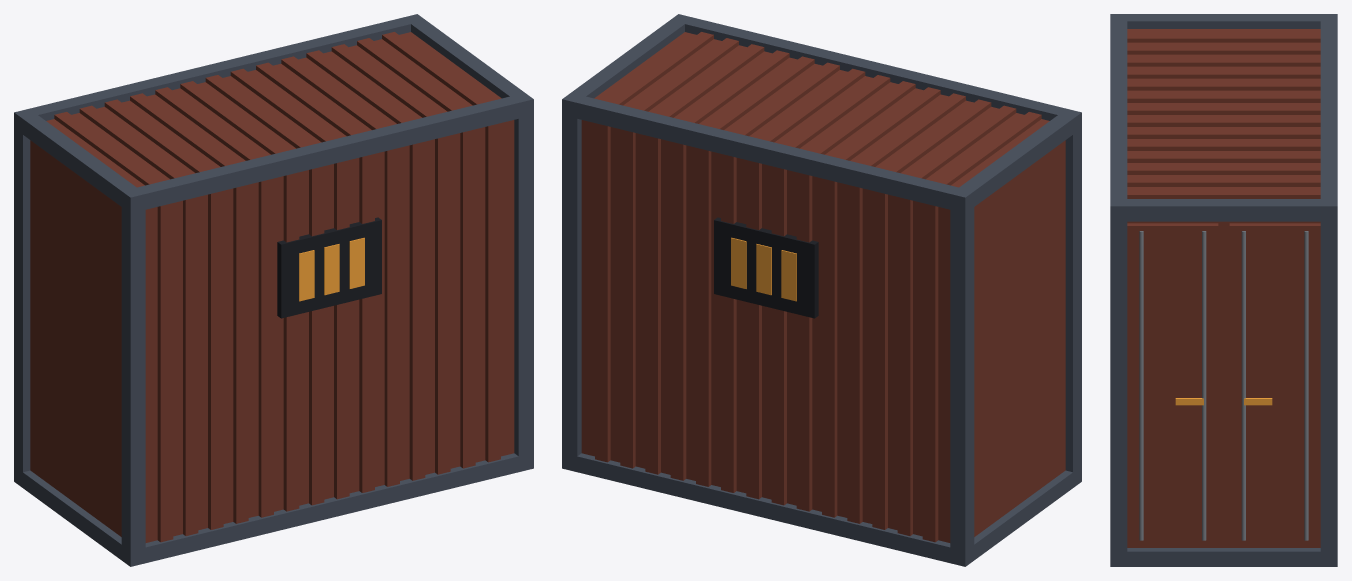
Rendered from Container.glb.
3 renders of one model, left to right at view 1: azimuth 30°, elevation 25°; view 2: azimuth 150°, elevation 25°; view 3: azimuth 270°, elevation 25°, orthographic. The views are drawn at different scales.
Visible parts, largest first — view 1: Oxide, Steel, Dark, Accent; view 2: Oxide, Steel, Dark, Accent; view 3: Oxide, Steel, Bare, Accent.
Boxes of the visible parts, <box> form: Oxide: <box>30,32,514,542</box>; Steel: <box>14,14,533,566</box>; Dark: <box>277,217,381,318</box>; Accent: <box>299,237,364,301</box>; Oxide: <box>581,32,1065,542</box>; Steel: <box>562,14,1081,566</box>; Dark: <box>714,217,818,318</box>; Accent: <box>731,237,796,301</box>; Oxide: <box>1127,29,1320,547</box>; Steel: <box>1110,14,1337,566</box>; Bare: <box>1139,231,1308,540</box>; Accent: <box>1175,398,1272,405</box>.
Size of the model in its own units: 8 by 7 by 4.
